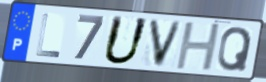7: (72, 13, 108, 63)
H: (174, 21, 223, 72)
L: (34, 12, 62, 60)
Q: (216, 26, 254, 73)
U: (101, 14, 151, 67)
V: (147, 18, 184, 70)
